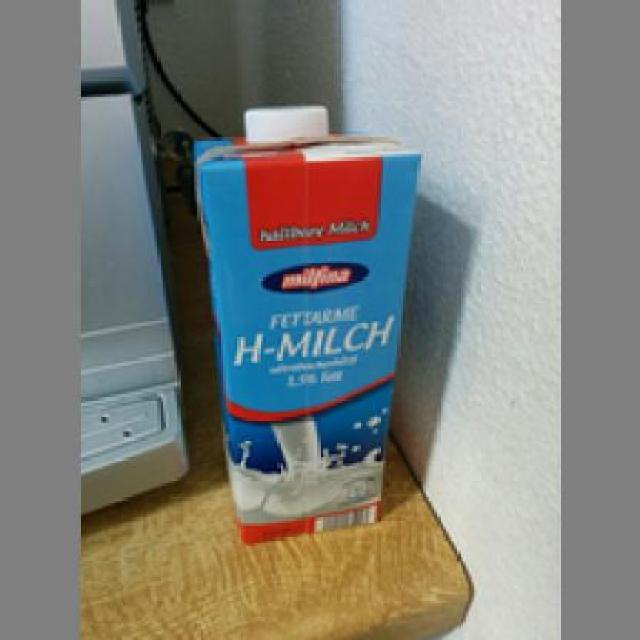Milk: (183, 100, 403, 543)
